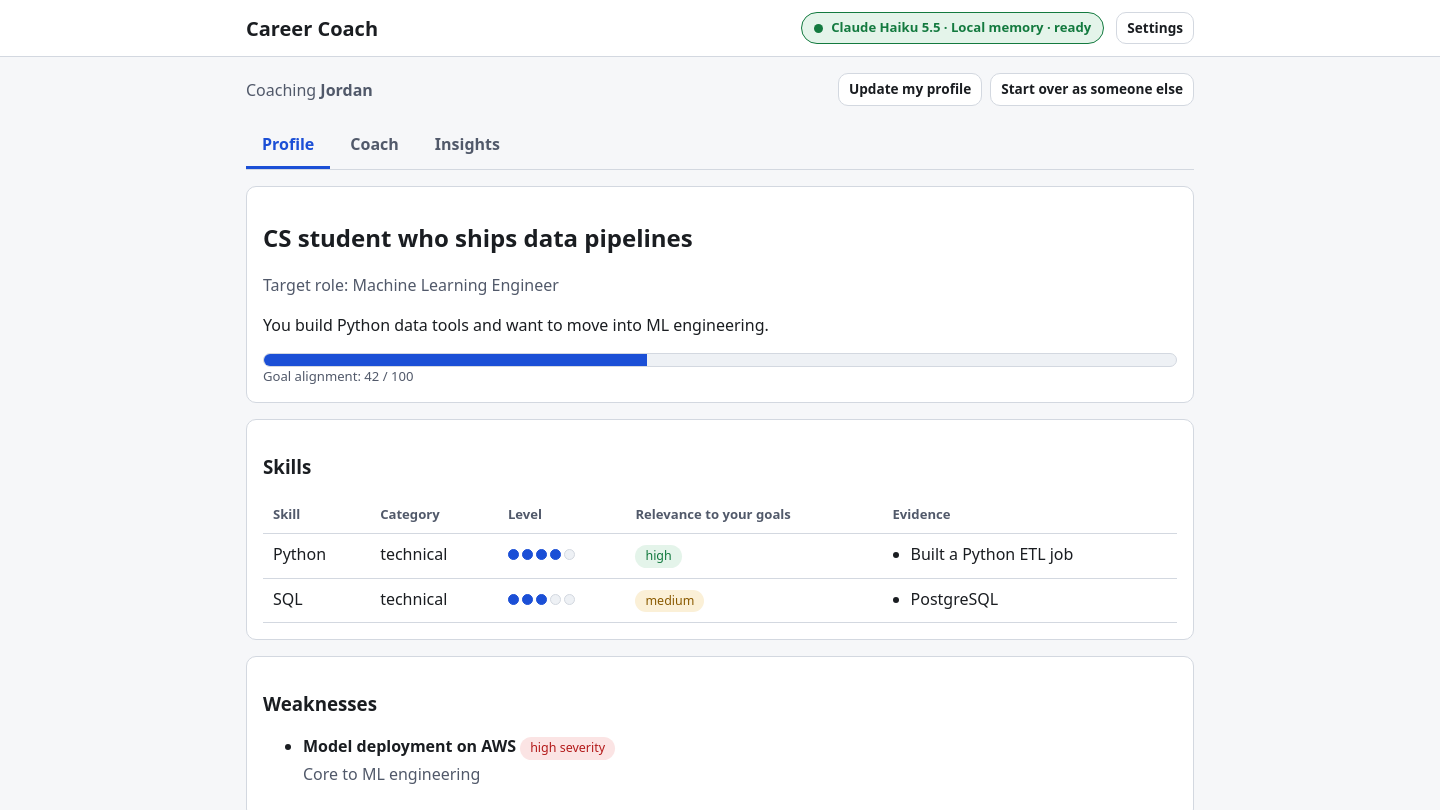
Test: App › Update my profile reopens the wizard with the old goals filled in
The width and height of the screenshot is (1440, 810).
What coordinates should you click on to do the following:
click the button "Update my profile"
I would click on:
 (910, 90)
Its box is [838,73,982,106].
(page scrolled)
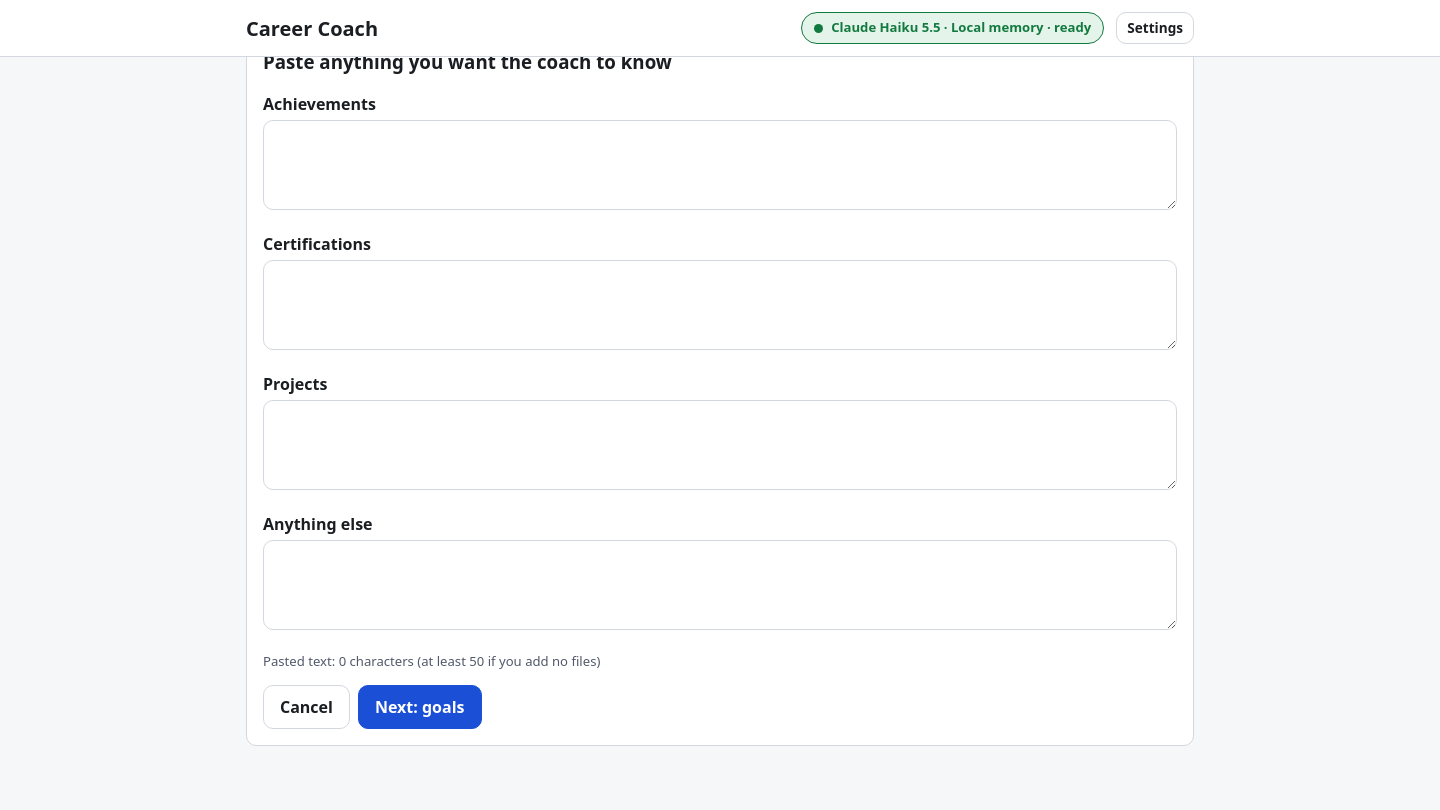
What coordinates should you click on to do the following:
click the button "Next: goals"
I would click on:
 (420, 707)
Its box is [358,685,482,729].
(page scrolled)
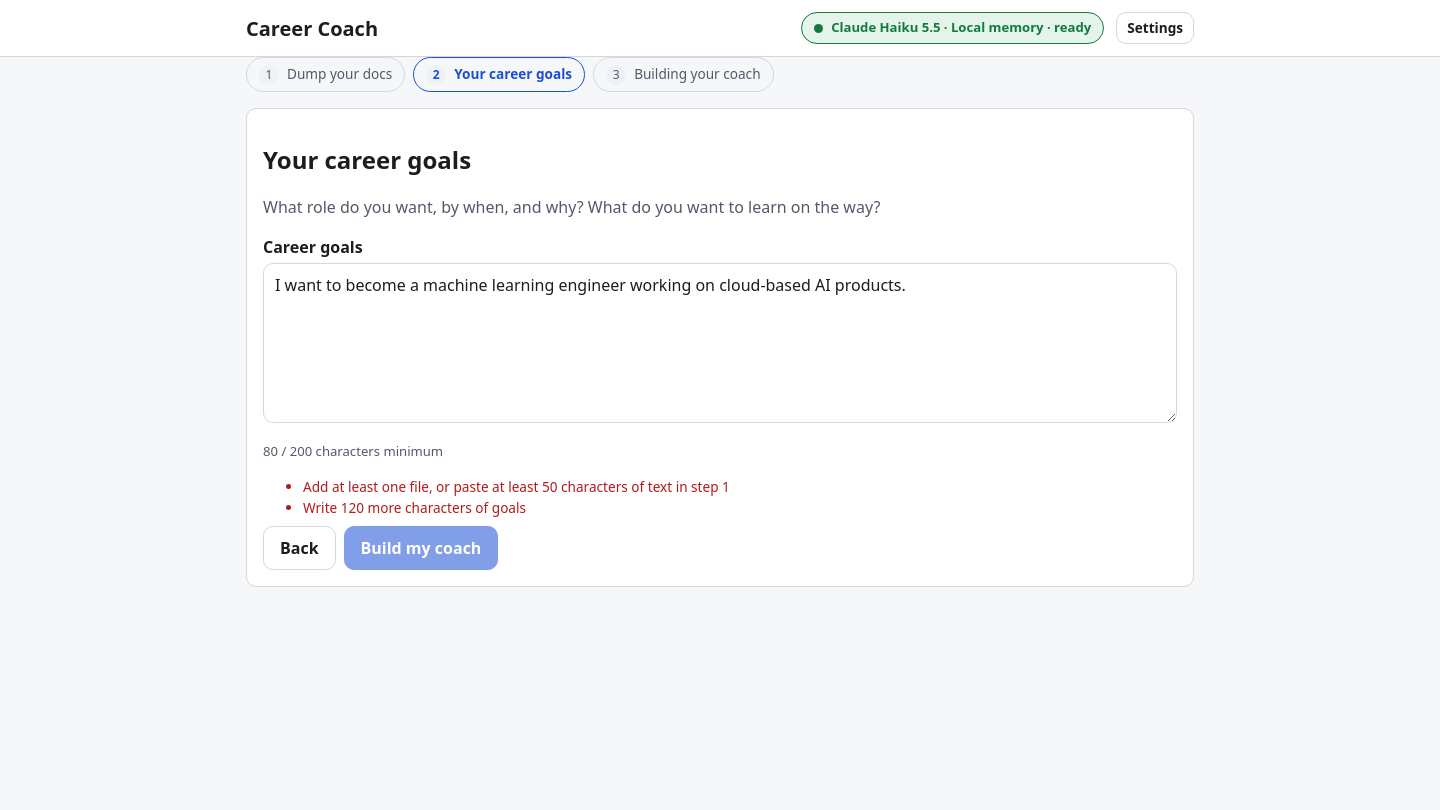
Result: the text box labelled "Career goals" holds "I want to become a machine learning engineer working on cloud-based AI products." at [263,263,1177,423]
